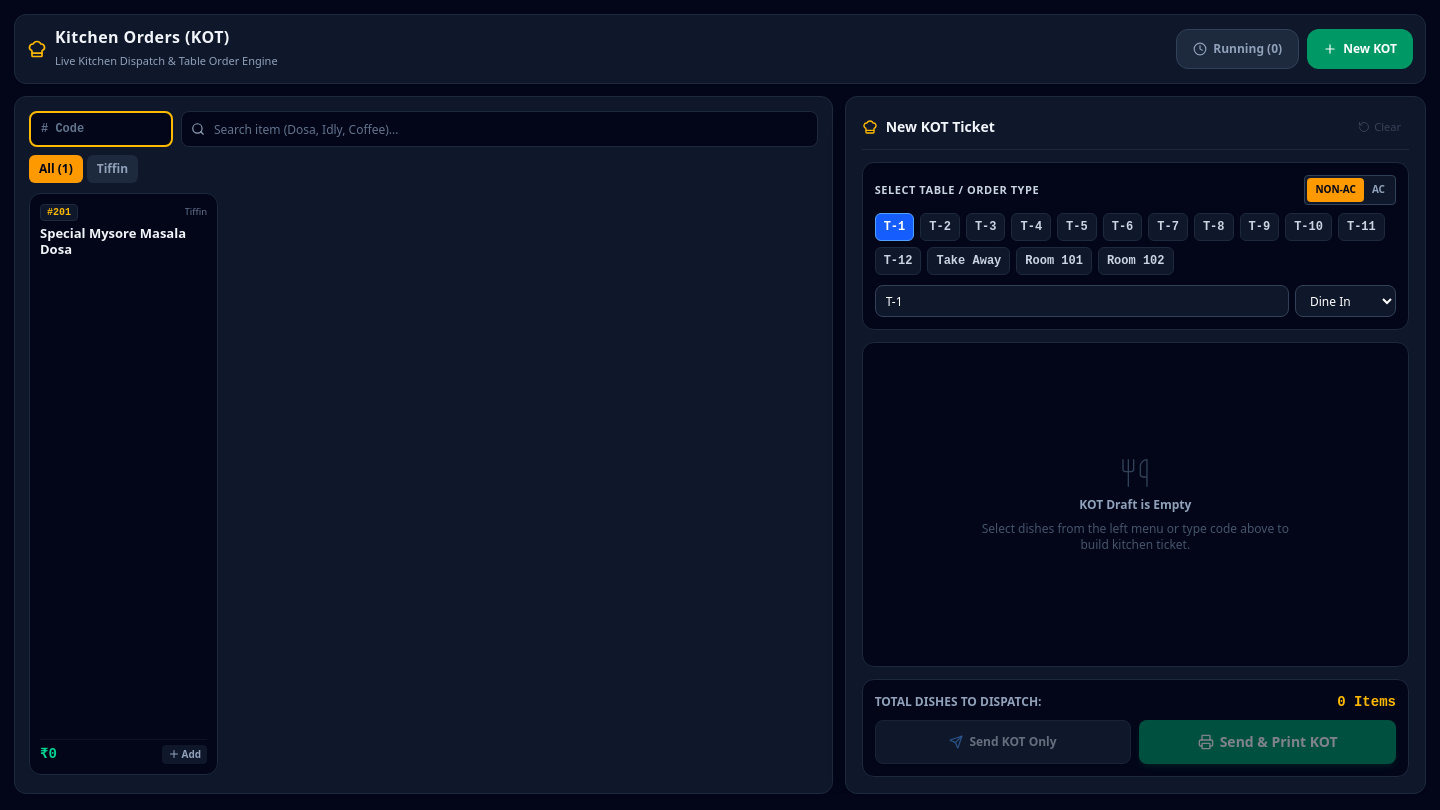
Scenario: Responsive KOT Card Display and Grid Layout › adds exactly 1 quantity on initial click and increments by exactly 1 on each subsequent click of the same item
The width and height of the screenshot is (1440, 810).
// First click: should add 1 quantity
Click the heading "Special Mysore Masala Dosa" at (124, 241), box [40,225,207,258]
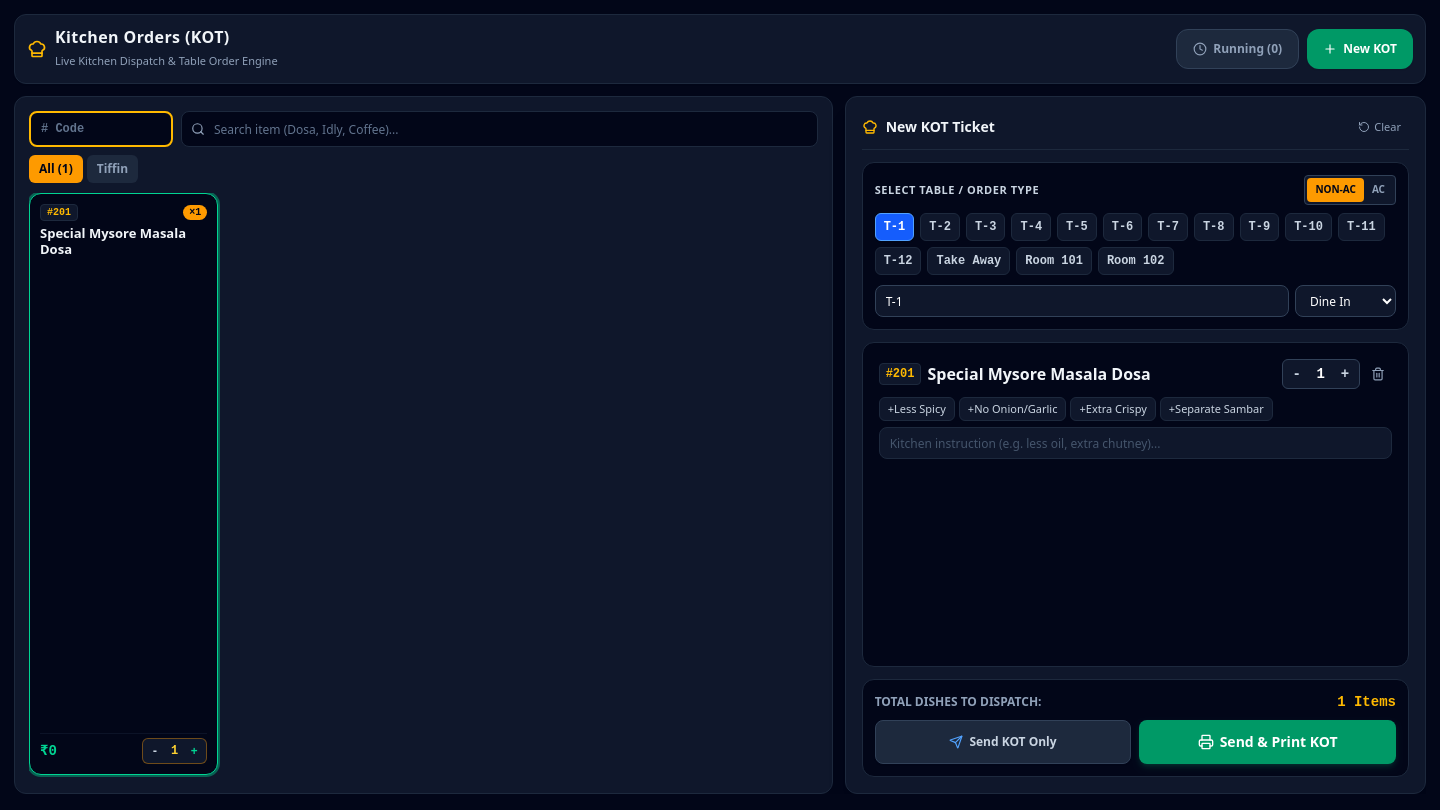
Check: the text "×1" is shown, box [183,205,207,220]
// Second click: must increment to exactly 2 (never skip to 3 or 4)
Click the heading "Special Mysore Masala Dosa" at (124, 241), box [40,225,207,258]
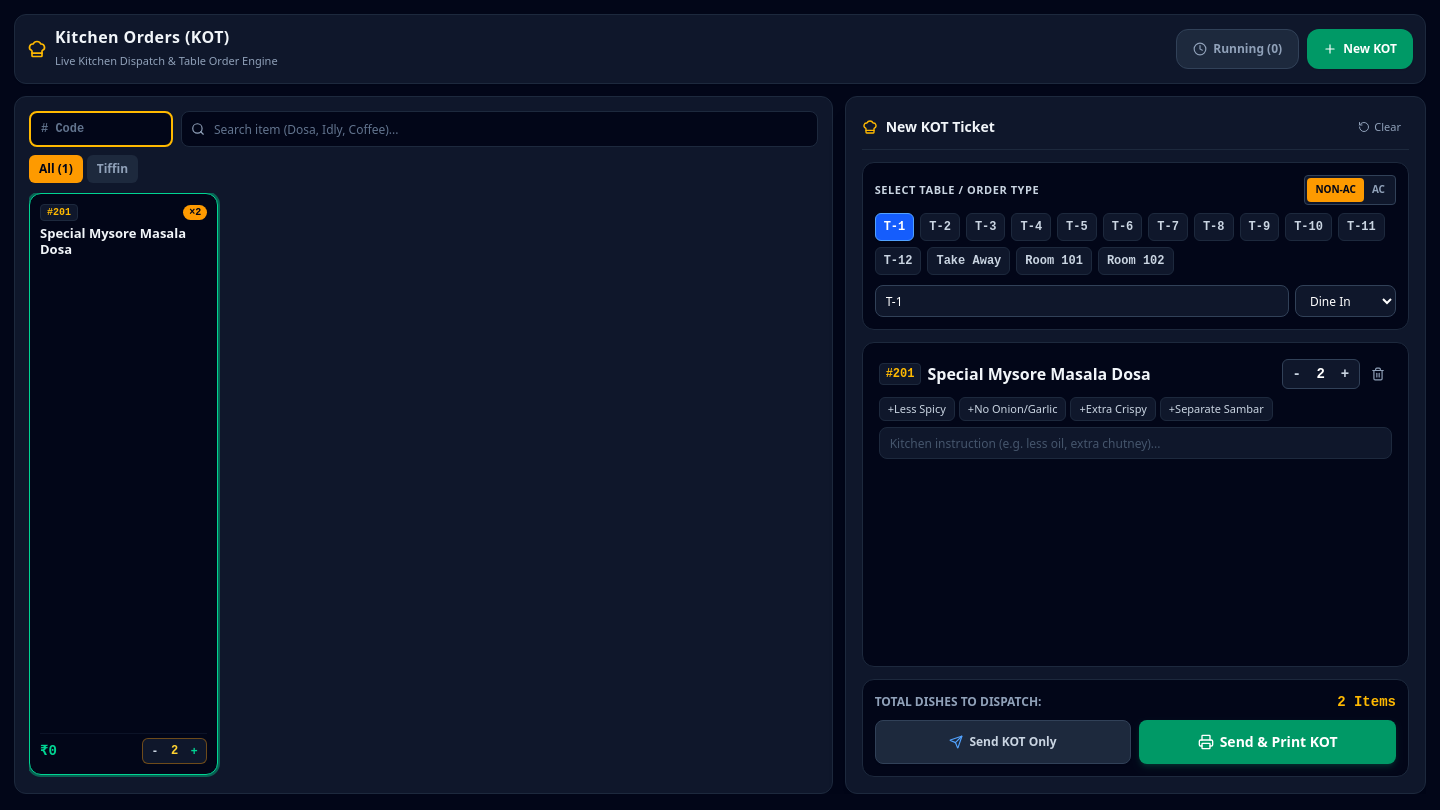
Check: the text "×2" is shown, box [183,205,207,220]
// Third click: must increment to exactly 3
Click the heading "Special Mysore Masala Dosa" at (124, 241), box [40,225,207,258]
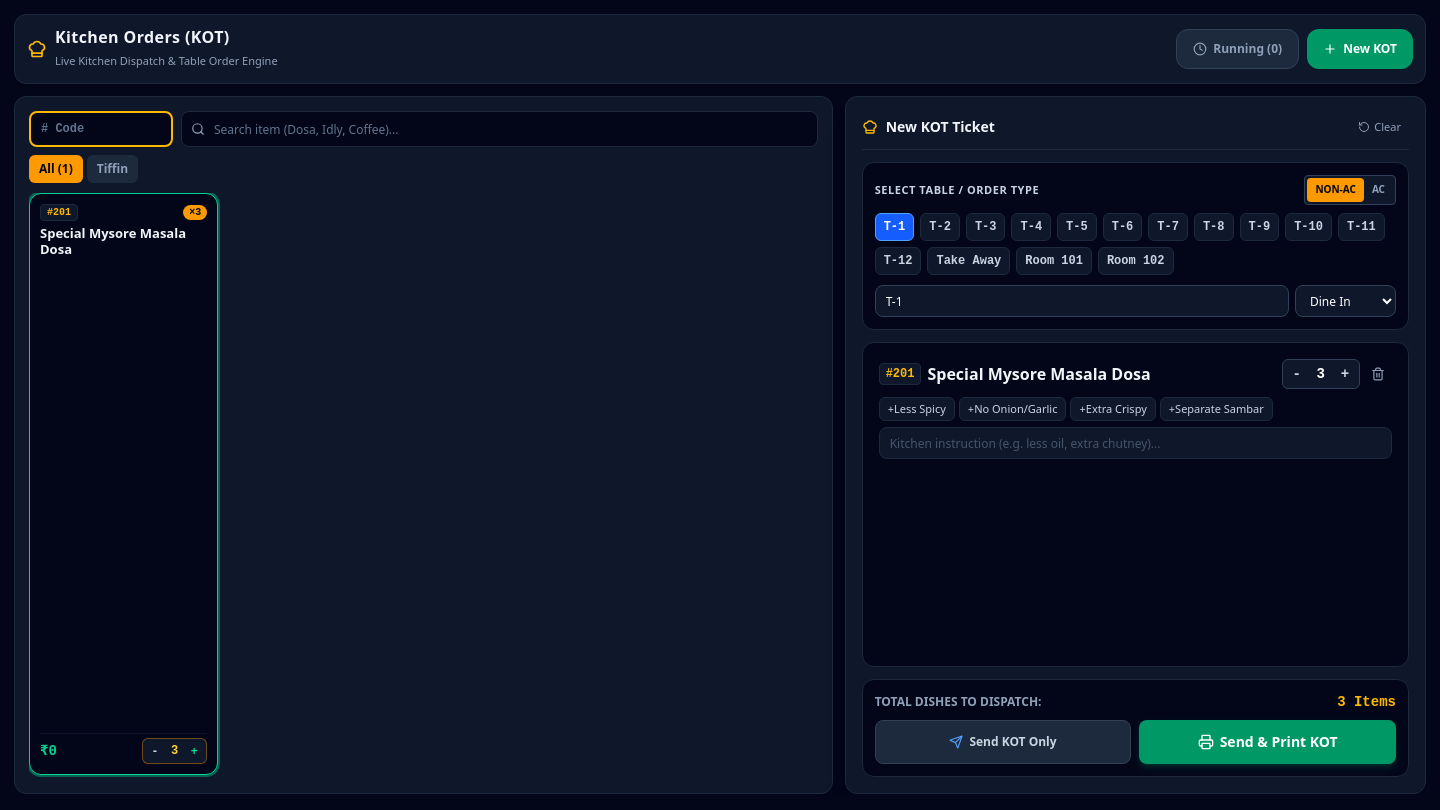
Check: the text "×3" is shown, box [183,205,207,220]
